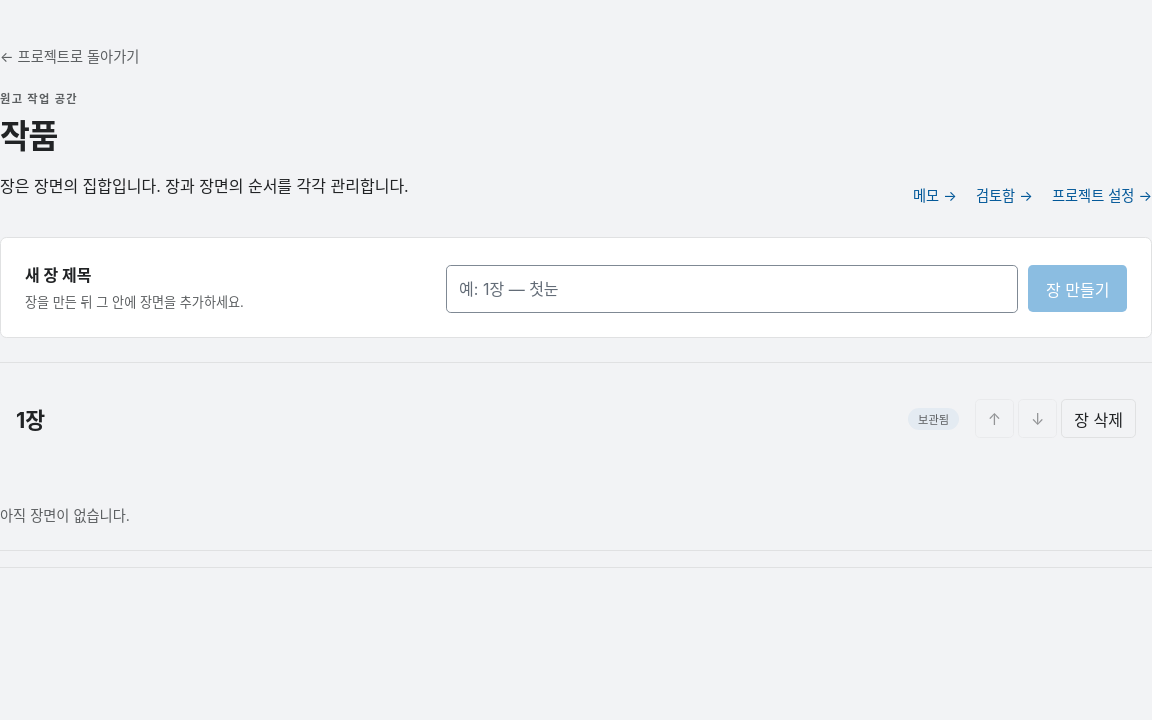
Test case: DraftList Chapter→Scene hierarchy › locks the chapter purge behind uncertain on a 503
The image size is (1152, 720).
Expected: the text "1장" is shown, x1=16 y1=407 x2=45 y2=433
Step 1. Click the button with aria-label "1장 삭제" → (1099, 419), box x1=1061 y1=399 x2=1136 y2=438
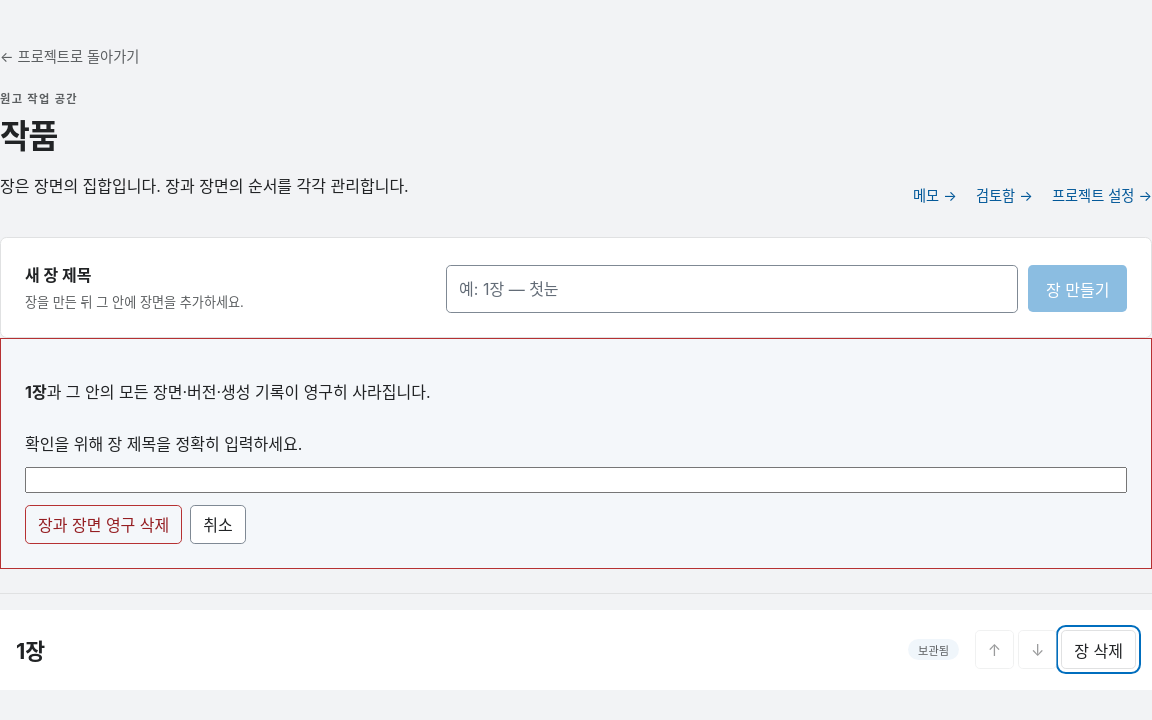
Step 2. Type "1장" into the field labelled "확인을 위해 장 제목을 정확히 입력하세요." → (576, 480), box x1=25 y1=467 x2=1127 y2=493
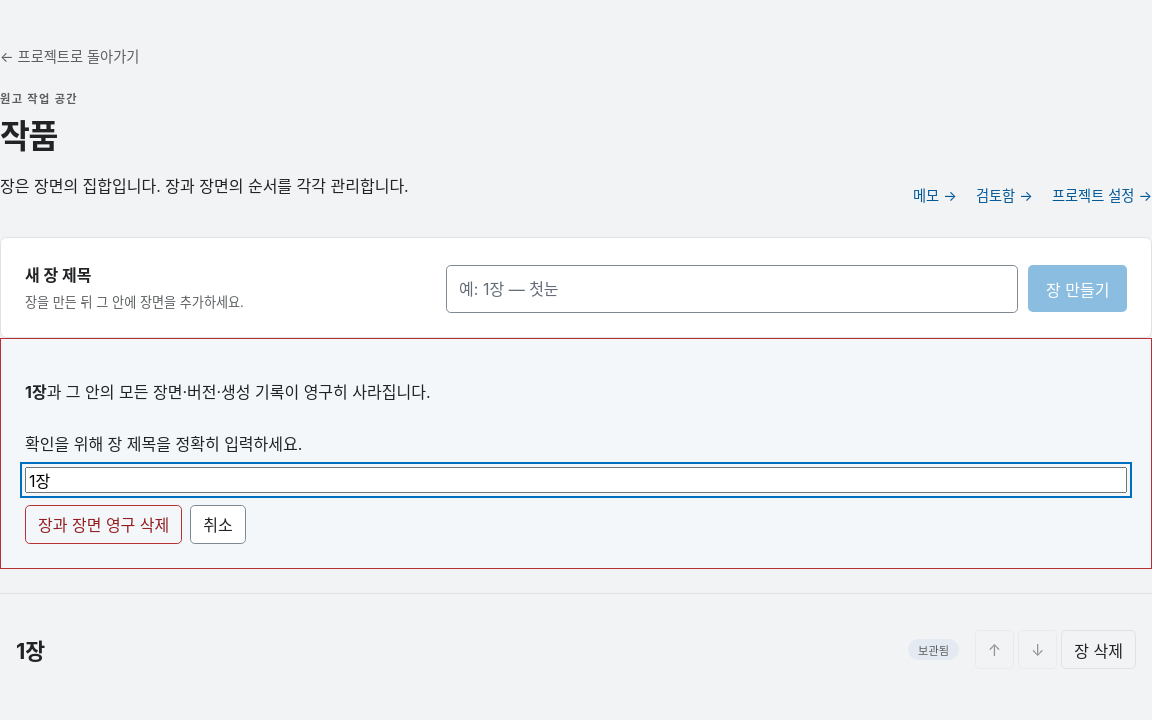
Step 3. Click the button "장과 장면 영구 삭제" → (104, 524), box x1=25 y1=505 x2=182 y2=544
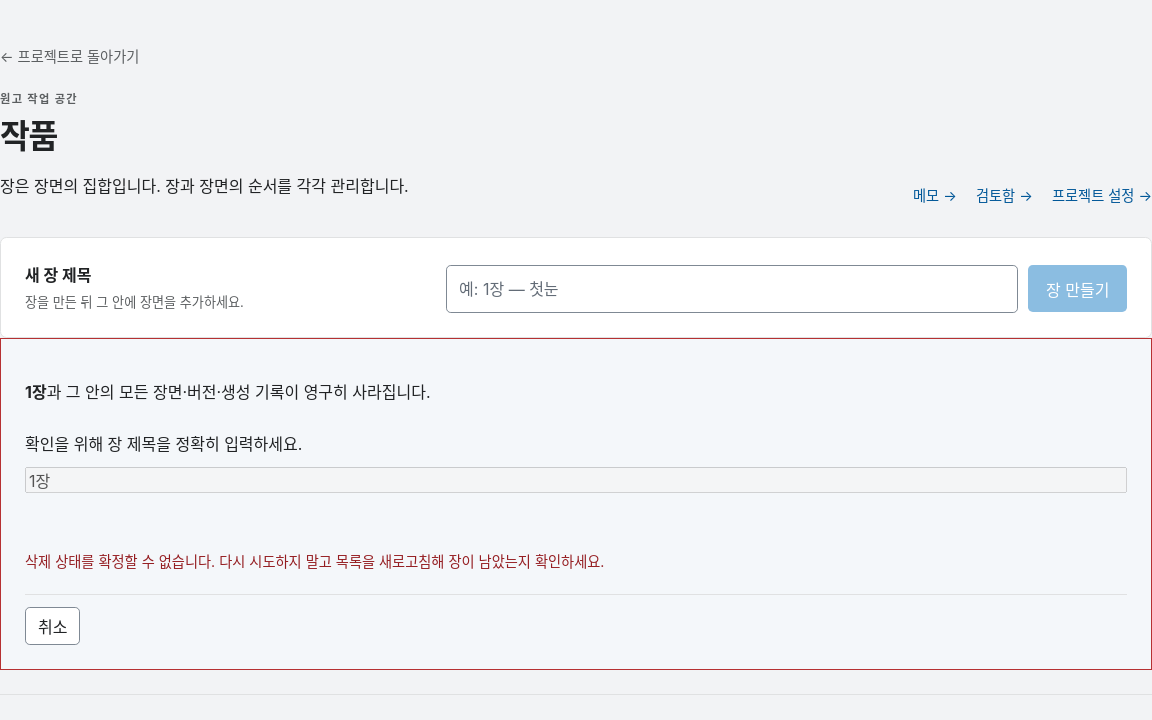
Now the dialog named "장 삭제 확인" is shown, box x1=0 y1=338 x2=1151 y2=670
Now the message shows "삭제 상태를 확정할 수 없습니다", box x1=25 y1=553 x2=604 y2=570
Now the button "장과 장면 영구 삭제" is gone
